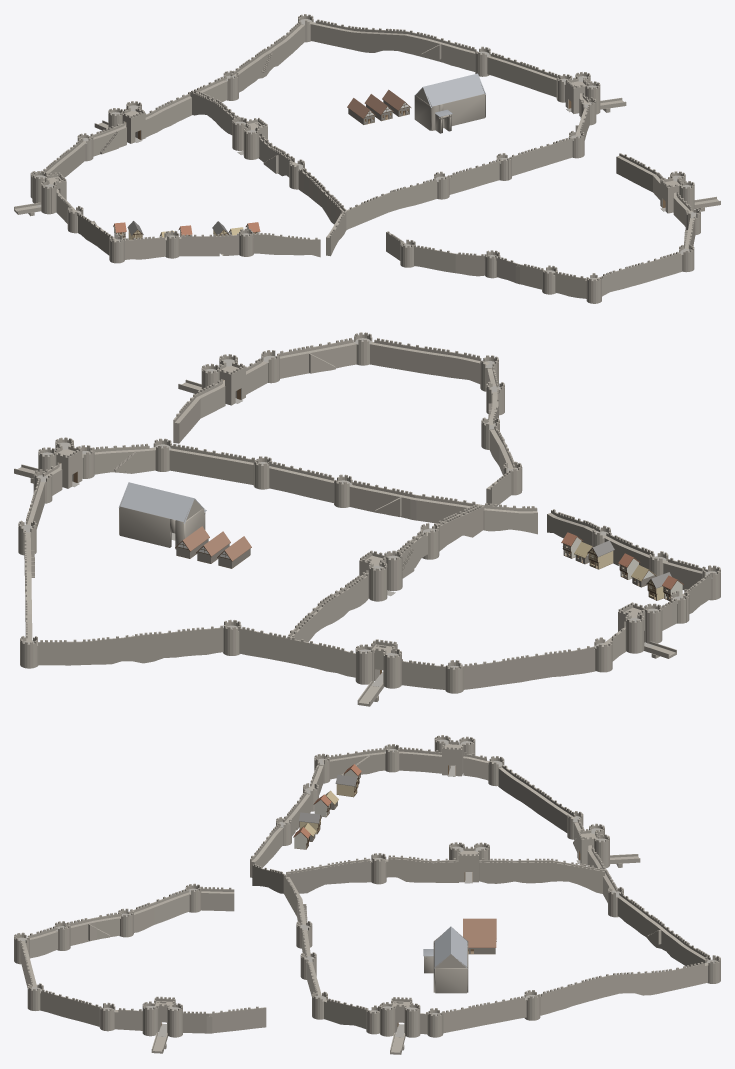
Rendered from castle-1650.glb.
The picture shows the model from 3 angles, top to bottom: view 1: azimuth 30°, elevation 25°; view 2: azimuth 150°, elevation 25°; view 3: azimuth 270°, elevation 25°; orthographic projection. The views are drawn at different scales.
Parts seen in each view (by area): view 1: stone.002, stone.004, stone.001, stone.003, stone.019, roof.010, stone.007, stone.005, stone.009, stone.006, stone.008; view 2: stone.002, stone.001, stone.004, stone.003, stone.019, stone.006, roof.010, stone.005, stone.007, stone.009, stone.008; view 3: stone.002, stone.004, stone.001, stone.003, stone.019, stone.009, stone.008, stone.005, roof.010, stone.007, stone.006.
Boxes of the visible parts, bbox=[...] form: stone.002: bbox=[167, 14, 596, 250]; stone.004: bbox=[386, 153, 700, 303]; stone.001: bbox=[30, 103, 332, 263]; stone.003: bbox=[190, 90, 346, 224]; stone.019: bbox=[414, 85, 485, 133]; roof.010: bbox=[414, 73, 485, 116]; stone.007: bbox=[232, 117, 267, 159]; stone.005: bbox=[32, 171, 66, 214]; stone.009: bbox=[565, 72, 600, 114]; stone.006: bbox=[108, 101, 145, 143]; stone.008: bbox=[660, 171, 694, 213]; stone.002: bbox=[18, 438, 530, 671]; stone.001: bbox=[326, 506, 720, 693]; stone.004: bbox=[173, 332, 522, 505]; stone.003: bbox=[288, 504, 484, 642]; stone.019: bbox=[119, 497, 205, 549]; stone.006: bbox=[355, 639, 401, 688]; roof.010: bbox=[118, 482, 206, 523]; stone.005: bbox=[618, 602, 662, 653]; stone.007: bbox=[359, 550, 402, 601]; stone.009: bbox=[38, 437, 82, 488]; stone.008: bbox=[201, 354, 245, 405]; stone.002: bbox=[256, 859, 720, 1037]; stone.004: bbox=[14, 883, 266, 1033]; stone.001: bbox=[250, 744, 600, 885]; stone.003: bbox=[286, 853, 604, 893]; stone.019: bbox=[424, 932, 468, 993]; stone.009: bbox=[379, 997, 420, 1037]; stone.008: bbox=[142, 996, 182, 1037]; stone.005: bbox=[434, 735, 475, 776]; roof.010: bbox=[423, 926, 467, 968]; stone.007: bbox=[449, 842, 489, 882]; stone.006: bbox=[577, 823, 609, 868].
Bounding box in the file's own units: 304 × 26.5 × 313.
